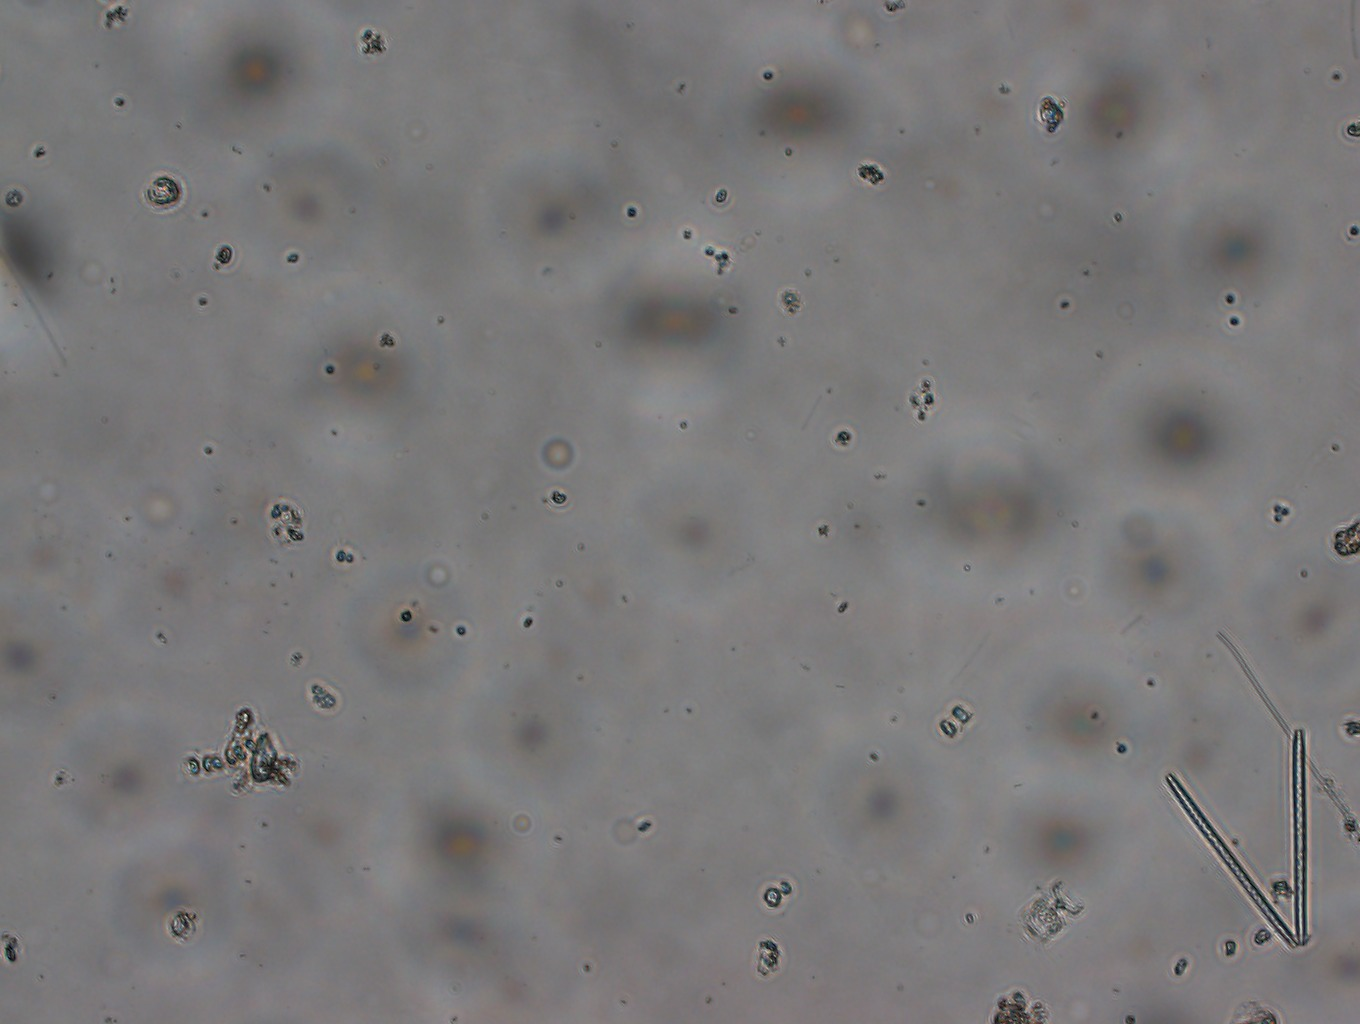thalassionema frauenfeldii: (1162, 721, 1322, 969)
